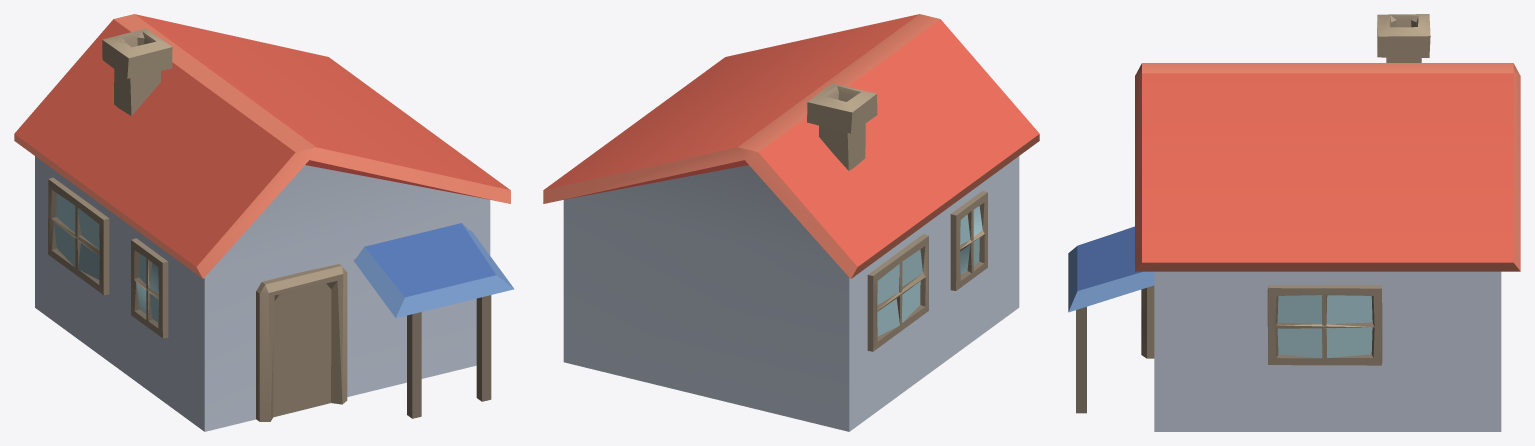
Rendered from RW_HG_Build_House.002.fbx.
3 renders of one model, left to right at view 1: azimuth 30°, elevation 25°; view 2: azimuth 150°, elevation 25°; view 3: azimuth 270°, elevation 25°, orthographic. The views are drawn at different scales.
Visible parts, largest first — view 1: WW_HG_Build_House.002; view 2: WW_HG_Build_House.002; view 3: WW_HG_Build_House.002.
Boxes of the visible parts, bbox=[...] form: WW_HG_Build_House.002: bbox=[14, 14, 514, 431]; WW_HG_Build_House.002: bbox=[543, 14, 1039, 431]; WW_HG_Build_House.002: bbox=[1068, 14, 1520, 431].
Bounding box in the file's own units: 1.04 × 0.9126 × 1.26.
